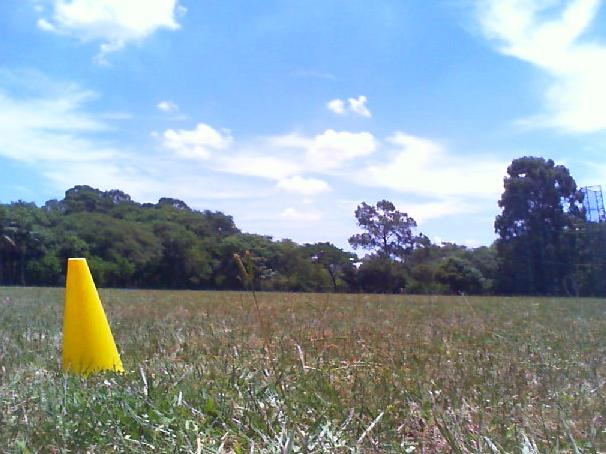0 cone: (60, 258, 125, 374)
